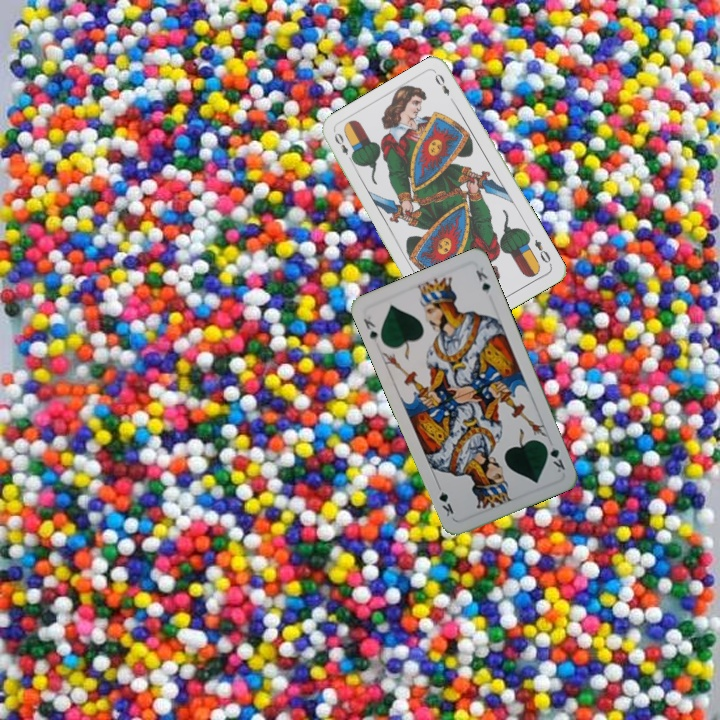EO: (330, 128, 357, 166), (530, 235, 554, 268)
GK: (540, 439, 568, 475), (359, 312, 380, 345)
